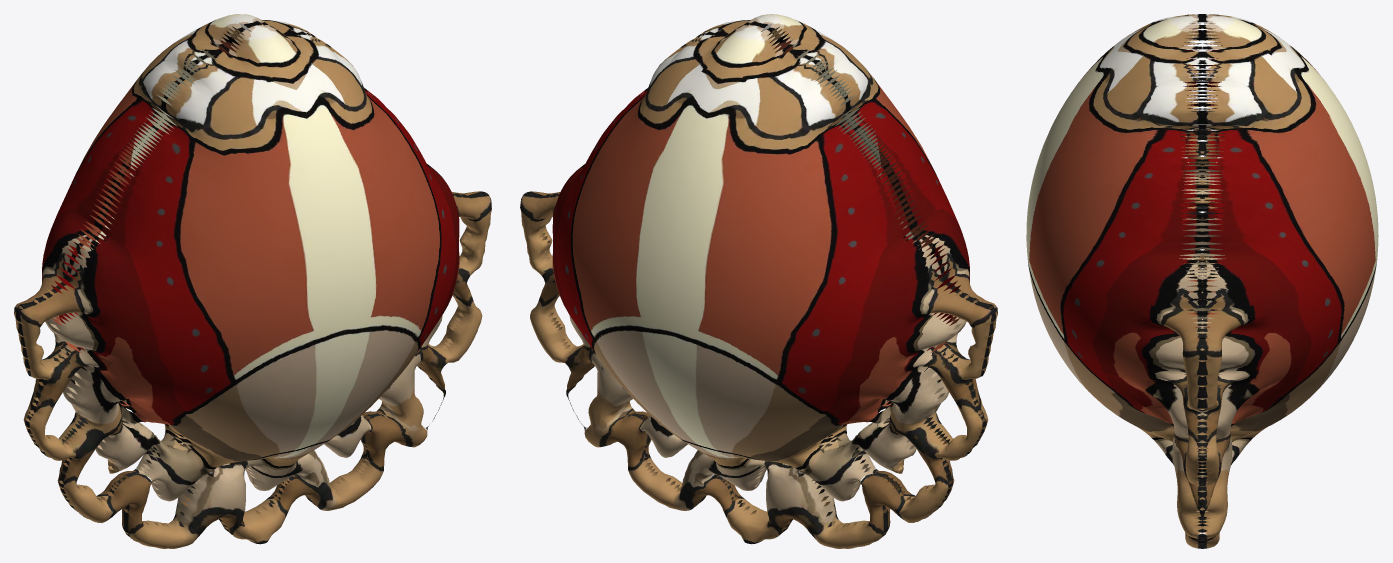
The model's file is red_machine.glb.
The picture shows the model from 3 angles, left to right: view 1: azimuth 30°, elevation 25°; view 2: azimuth 150°, elevation 25°; view 3: azimuth 270°, elevation 25°; orthographic projection. The views are drawn at different scales.
Visible parts, largest first — view 1: red_machine; view 2: red_machine; view 3: red_machine.
Boxes of the visible parts, box(x1,y1,x2,y2) form: red_machine: box(14, 14, 491, 548); red_machine: box(520, 14, 997, 548); red_machine: box(1026, 14, 1378, 548).
Size of the model in its own units: 0.9882 by 1.03 by 0.6596.
Materials: 1 (1 with a texture image).
